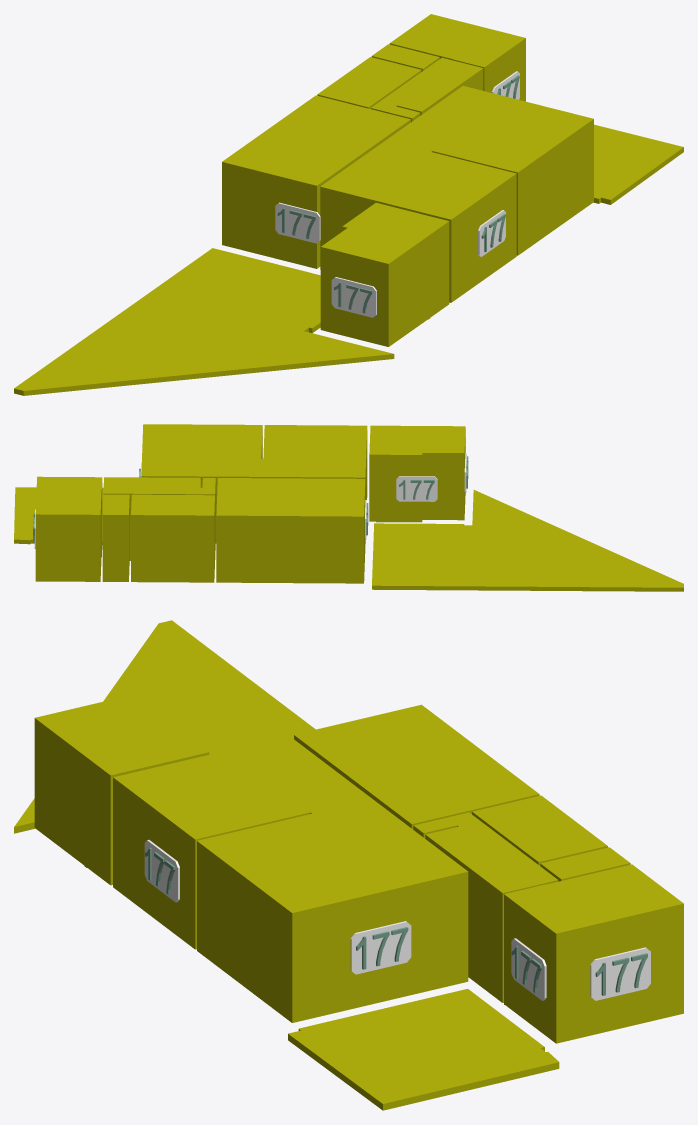
The picture shows the model from 3 angles, top to bottom: view 1: azimuth 30°, elevation 25°; view 2: azimuth 150°, elevation 25°; view 3: azimuth 270°, elevation 25°; orthographic projection. The views are drawn at different scales.
Visible parts, largest first — view 1: g_8, g_0, g_2, g_1, g_7, g_3, g_9, g_6, g_4, g_25, g_13, g_5 (+1 smaller); view 2: g_8, g_2, g_7, g_4, g_3, g_0, g_1, g_5, g_6, g_9, g_29; view 3: g_0, g_3, g_1, g_9, g_7, g_2, g_8, g_6, g_4, g_37, g_17, g_5 (+2 smaller).
Part boxes in pixels (box(x1,y1,x2,y2)): g_8: box(14, 248, 394, 395); g_0: box(387, 86, 593, 255); g_2: box(222, 95, 410, 268); g_1: box(320, 139, 516, 302); g_7: box(320, 202, 449, 346); g_3: box(389, 14, 525, 101); g_9: box(593, 124, 683, 204); g_6: box(371, 57, 483, 122); g_4: box(317, 57, 421, 108); g_25: box(331, 277, 376, 317); g_13: box(275, 202, 320, 243); g_5: box(371, 44, 439, 71); g_8: box(372, 490, 683, 591); g_2: box(216, 478, 365, 583); g_7: box(369, 425, 465, 522); g_4: box(131, 494, 214, 582); g_3: box(35, 476, 102, 581); g_0: box(141, 424, 262, 543); g_1: box(260, 425, 367, 543); g_5: box(102, 494, 129, 581); g_6: box(103, 477, 215, 560); g_9: box(14, 487, 103, 544); g_29: box(396, 476, 437, 501); g_0: box(197, 799, 468, 1022); g_3: box(504, 864, 683, 1043); g_1: box(113, 736, 372, 949); g_9: box(288, 989, 559, 1110); g_7: box(34, 696, 209, 885); g_2: box(294, 704, 539, 829); g_8: box(14, 620, 315, 833); g_6: box(413, 812, 558, 1002); g_4: box(472, 795, 607, 865); g_37: box(350, 921, 411, 974); g_17: box(590, 947, 650, 1000); g_5: box(540, 847, 630, 881).
Bounding box in the file's own units: 23.44 × 2.65 × 13.71.
